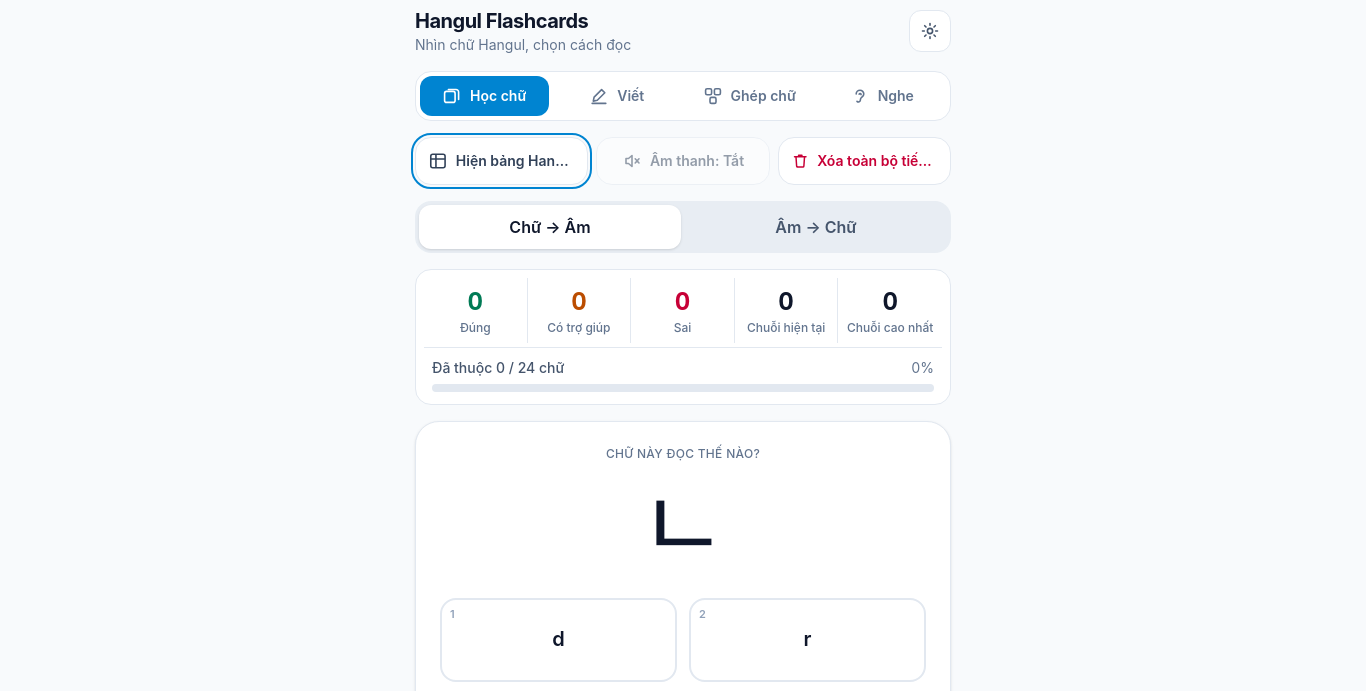
Test case: assisted answers › marks the next generated question assisted while the chart stays open
This screenshot has width=1366, height=691.
Click the button "Hiện bảng Hangul": coordinates (502, 161) left=415, top=137, right=588, bottom=185
(page scrolled)
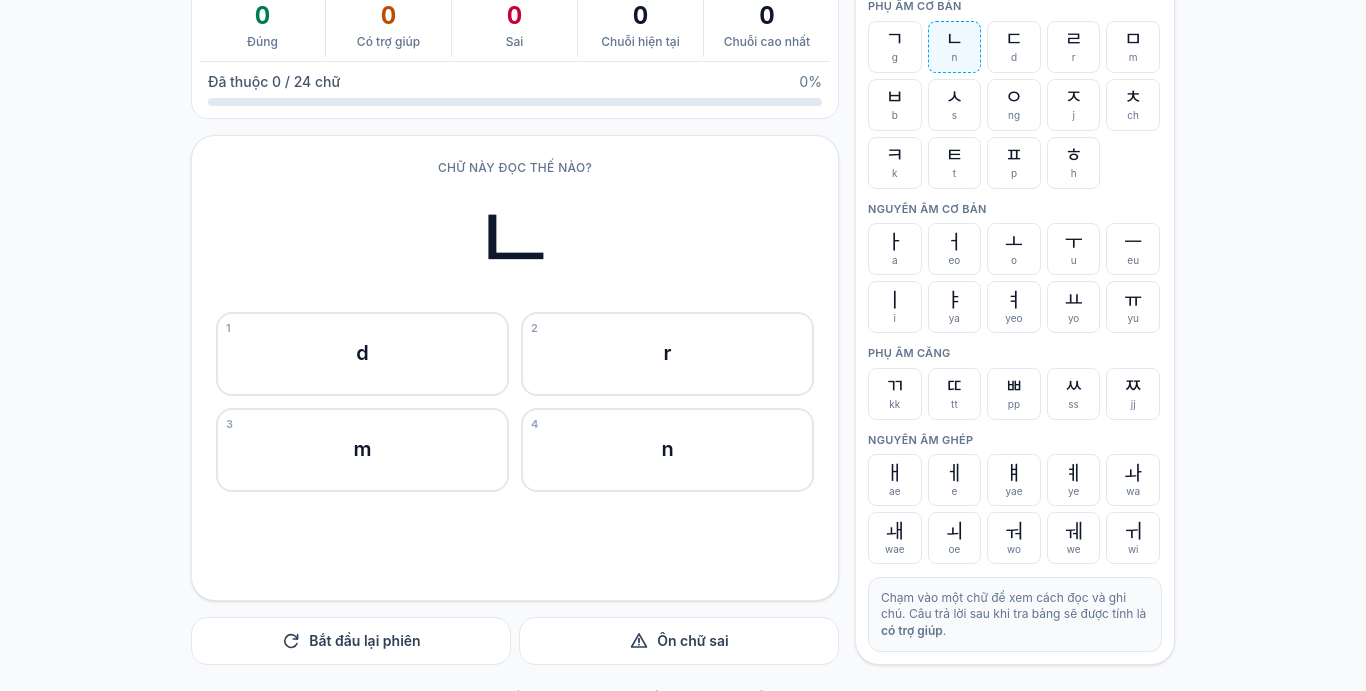
Click the button named "Đáp án": coordinates (668, 450) left=521, top=408, right=814, bottom=492
Wait 750 ms
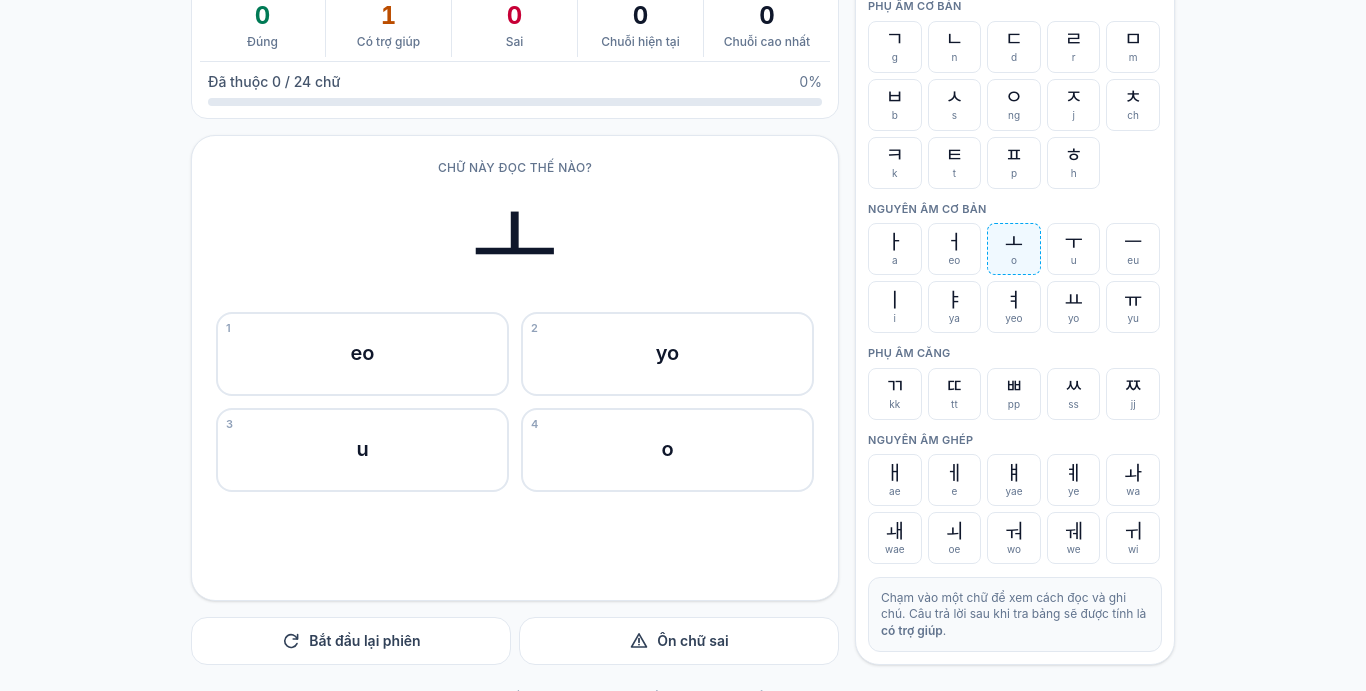
Click the button named "Đáp án": coordinates (668, 450) left=521, top=408, right=814, bottom=492
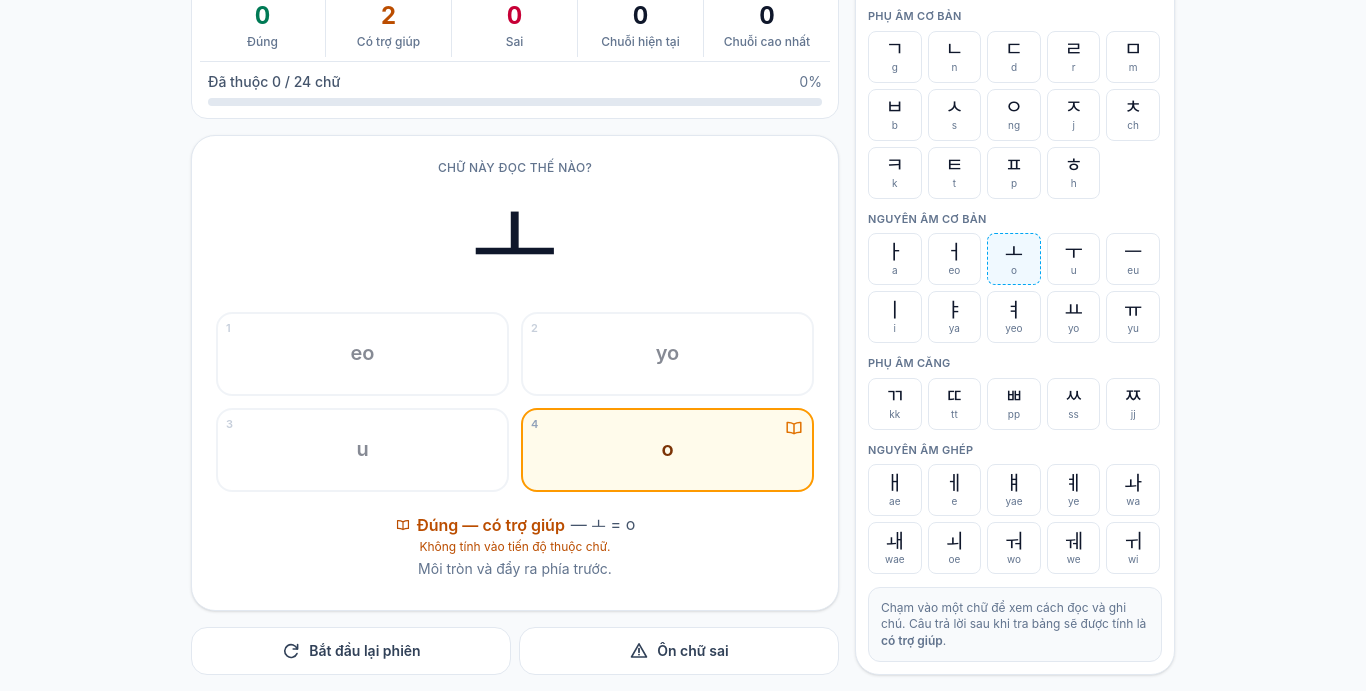
Now the text "Đúng — có trợ giúp" is shown, box left=417, top=512, right=565, bottom=536
